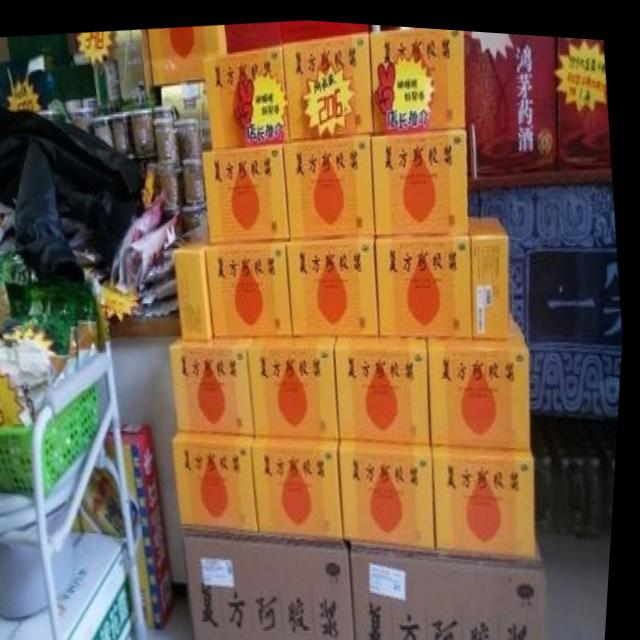box: (469, 176, 626, 413), (356, 529, 557, 640), (185, 525, 363, 640), (462, 25, 560, 177), (437, 438, 543, 551), (432, 328, 536, 442), (341, 435, 442, 541), (337, 332, 436, 437), (373, 123, 471, 229), (282, 27, 375, 137), (378, 229, 475, 333), (372, 21, 465, 129), (284, 131, 379, 236), (288, 232, 382, 333), (256, 432, 349, 534), (251, 333, 344, 434), (204, 43, 292, 147), (555, 29, 613, 178), (174, 333, 261, 432), (204, 140, 292, 236), (210, 235, 295, 333), (179, 428, 263, 525), (470, 211, 514, 331), (147, 23, 229, 80), (176, 224, 217, 336)
